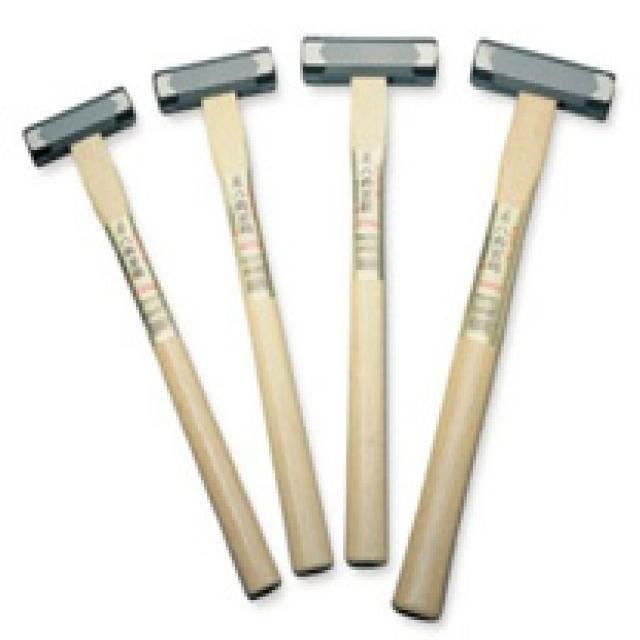hammer: (402, 30, 624, 634), (17, 79, 274, 597), (144, 42, 336, 585), (288, 28, 448, 583)
